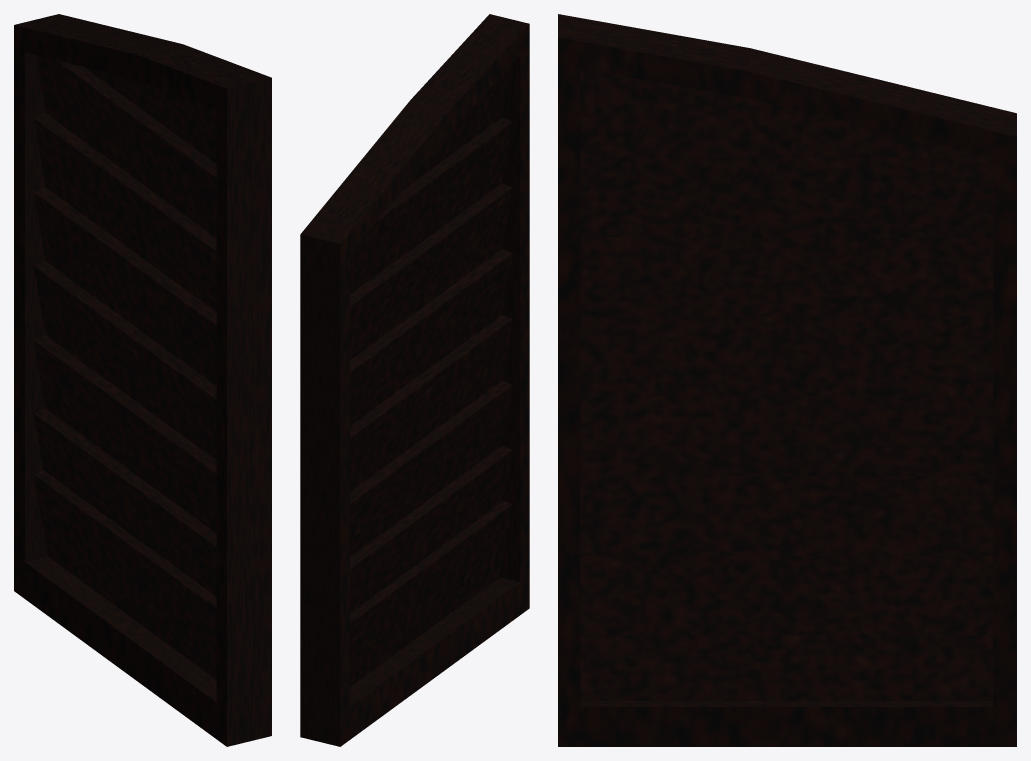
File: door_right.fbx
3 views of the same model, side by side, from view 1: azimuth 30°, elevation 25°; view 2: azimuth 150°, elevation 25°; view 3: azimuth 270°, elevation 25° (orthographic). The views are drawn at different scales.
Visible parts, largest first — view 1: door_right_Baked; view 2: door_right_Baked; view 3: door_right_Baked.
Boxes of the visible parts, x1=… form: door_right_Baked: x1=14, y1=14, x2=271, y2=746; door_right_Baked: x1=300, y1=14, x2=529, y2=746; door_right_Baked: x1=558, y1=14, x2=1016, y2=746.
Bounding box in the file's own units: 1.51 × 21.09 × 12.37.
1 material, 1 textured.
